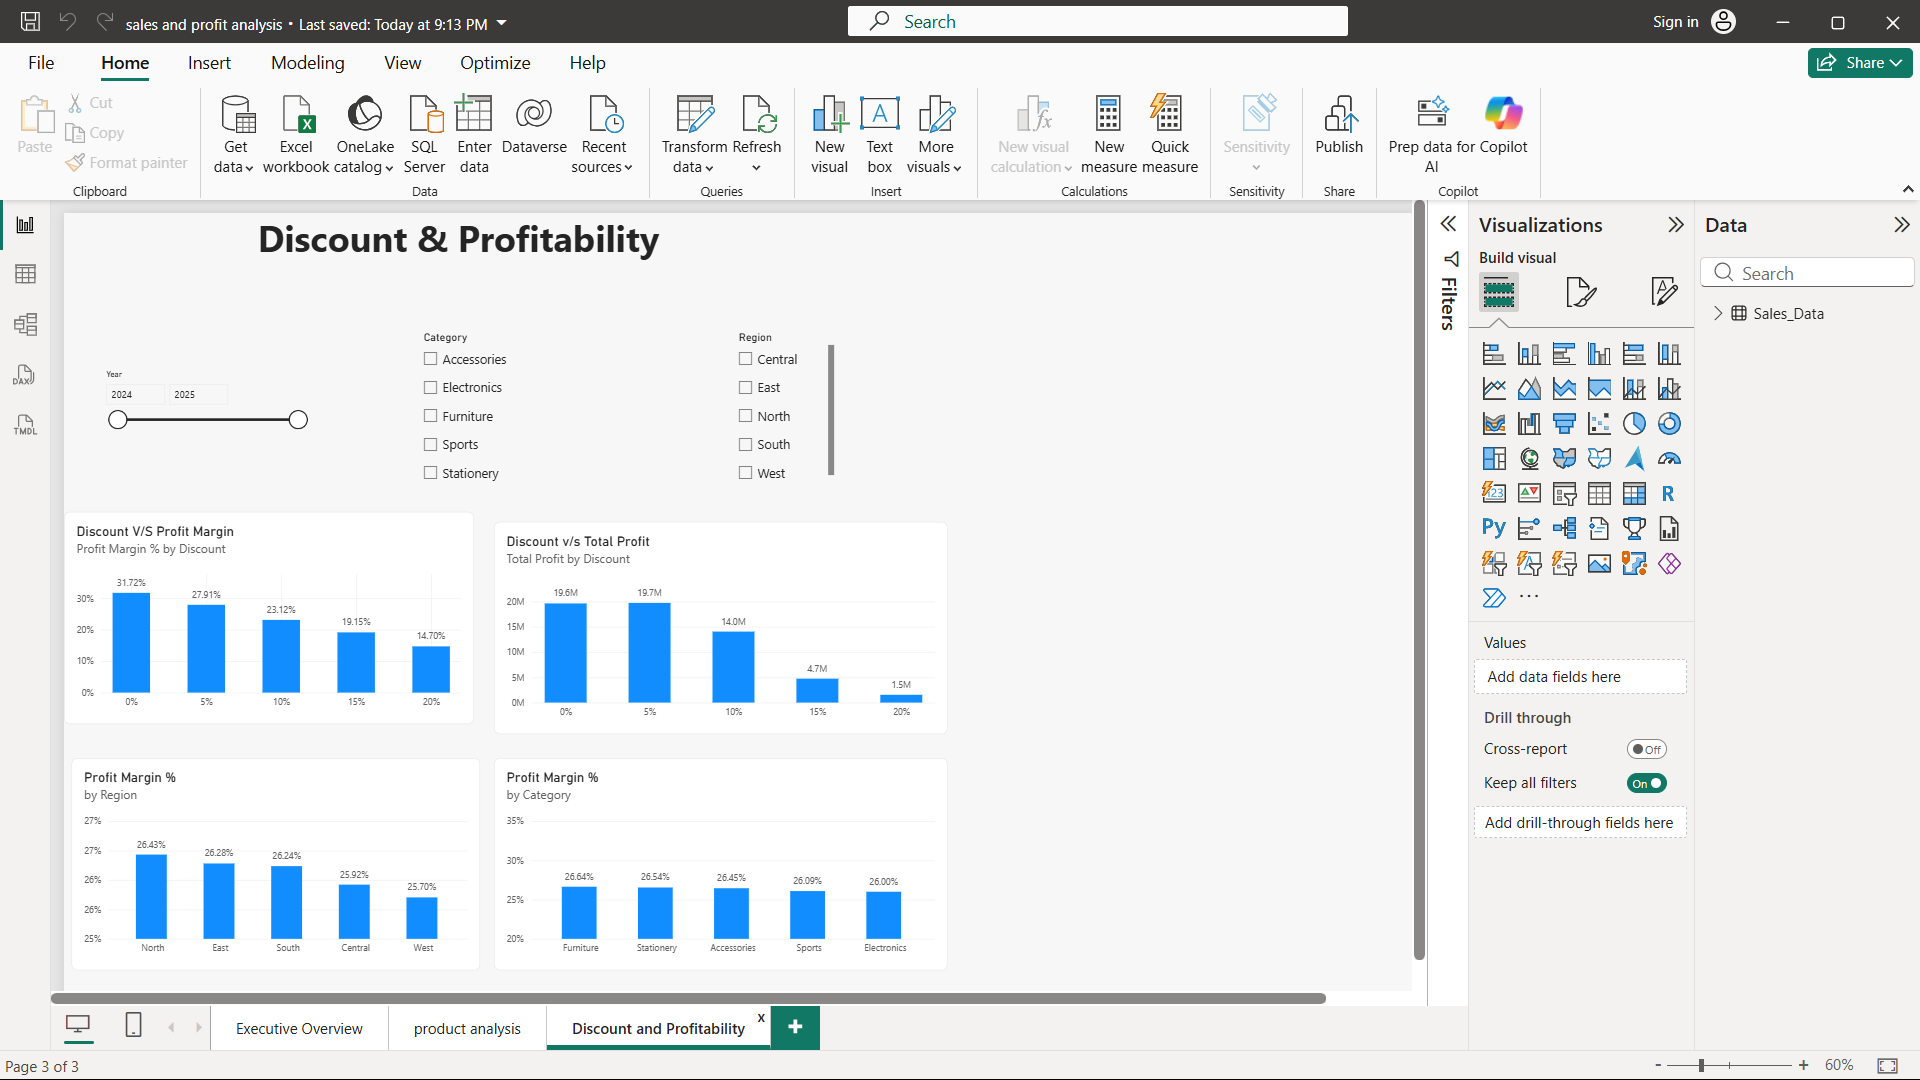

Layout of this report page (visuals, bound fields, positions):
{"tool":"powerbi","page":{"name":"Discount and Profitability","canvas":[1920,1080],"ordinal":2},"visuals":[{"type":"slicer","fields":{"Values":["Sales_Data.Year"]},"box":[48.3,208.3,280,125],"z":0},{"type":"slicer","fields":{"Values":["Sales_Data.Category"]},"box":[471.7,156.7,168.3,208.3],"z":1},{"type":"slicer","fields":{"Values":["Sales_Data.Region"]},"box":[891.7,156.7,135,205],"z":2},{"type":"clusteredColumnChart","title":"Discount V/S Profit Margin","fields":{"Category":["Sales_Data.Discount"],"Y":["Sales_Data.Profit Margin %"]},"box":[0,398.3,546.7,283.3],"z":3},{"type":"columnChart","title":"Discount v/s Total Profit","fields":{"Category":["Sales_Data.Discount"],"Y":["Sales_Data.Total Profit"]},"box":[573.3,411.7,605,283.3],"z":4},{"type":"clusteredColumnChart","fields":{"Category":["Sales_Data.Region"],"Y":["Sales_Data.Profit Margin %"]},"box":[10,726.7,545,283.3],"z":5},{"type":"clusteredColumnChart","fields":{"Category":["Sales_Data.Category"],"Y":["Sales_Data.Profit Margin %"]},"box":[573.3,726.7,605,283.3],"z":6},{"type":"textbox","box":[258.3,0,618.3,150],"z":7}]}

Visuals, with their boxes on the page's 1920x1080 design canvas (x1, y1, x2, y2). These are canvas units, not pixel positions in the 1920x1080 screenshot, which may show the page scaled, cropped or inside an application window:
slicer - Sales_Data.Year: crop(48, 208, 328, 333)
slicer - Sales_Data.Category: crop(472, 157, 640, 365)
slicer - Sales_Data.Region: crop(892, 157, 1027, 362)
"Discount V/S Profit Margin" clusteredColumnChart: crop(0, 398, 547, 682)
"Discount v/s Total Profit" columnChart: crop(573, 412, 1178, 695)
clusteredColumnChart - Sales_Data.Region x Sales_Data.Profit Margin %: crop(10, 727, 555, 1010)
clusteredColumnChart - Sales_Data.Category x Sales_Data.Profit Margin %: crop(573, 727, 1178, 1010)
textbox: crop(258, 0, 877, 150)
